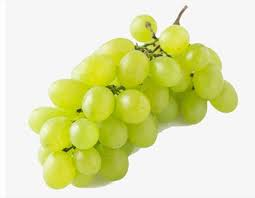Green grapes: (23, 9, 237, 189)
